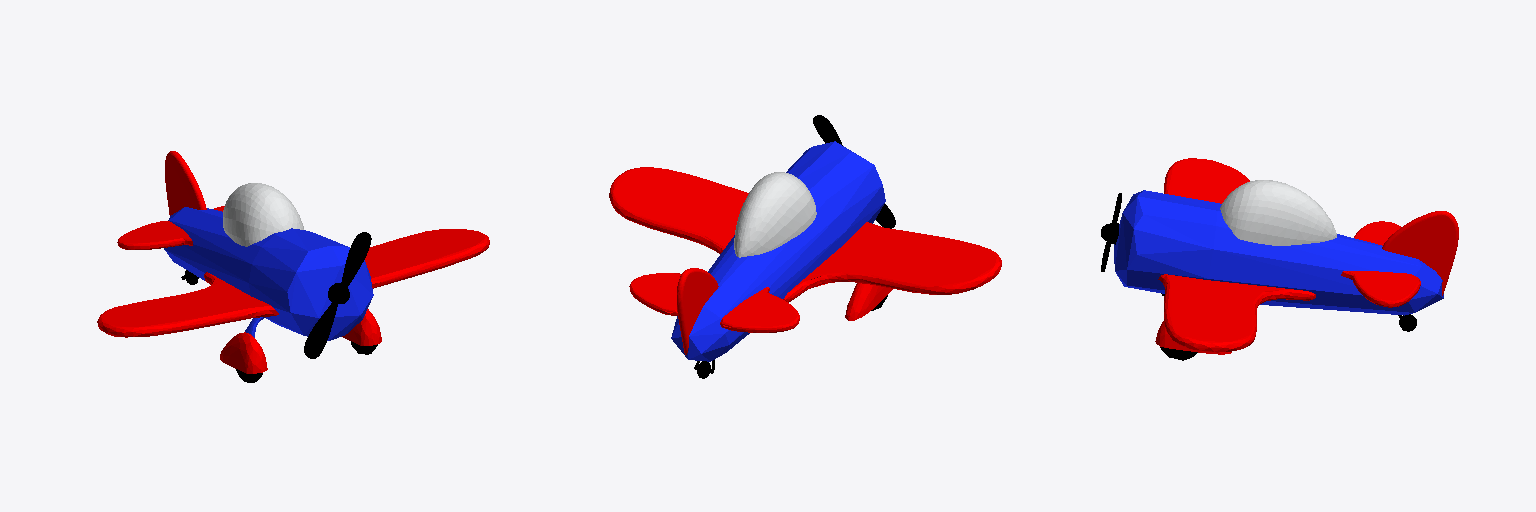
Rendered from toyplane.obj.
3 views of the same model, side by side, from view 1: azimuth 30°, elevation 25°; view 2: azimuth 150°, elevation 25°; view 3: azimuth 270°, elevation 25° (orthographic).
Parts seen in each view (by area): view 1: mat_001221, mat_001201, mat_001211, mat_001231; view 2: mat_001221, mat_001201, mat_001211, mat_001231; view 3: mat_001201, mat_001221, mat_001211, mat_001231.
Part boxes in pixels (x1,y1,x2,y2): mat_001221: (97, 151, 489, 373); mat_001201: (164, 207, 373, 340); mat_001211: (223, 183, 303, 246); mat_001231: (181, 232, 377, 382); mat_001221: (609, 167, 1001, 354); mat_001201: (671, 141, 885, 361); mat_001211: (734, 172, 816, 257); mat_001231: (694, 115, 895, 378); mat_001201: (1114, 190, 1443, 315); mat_001221: (1155, 158, 1458, 354); mat_001211: (1220, 180, 1336, 245); mat_001231: (1101, 193, 1416, 360).
Size of the model in its own units: 240 by 90.99 by 196.